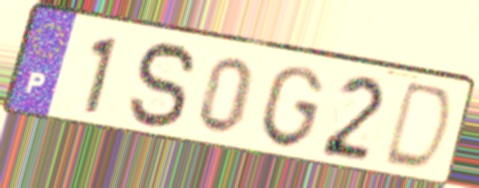0: (193, 56, 259, 138)
1: (82, 35, 125, 116)
2: (319, 73, 389, 166)
D: (378, 79, 457, 176)
G: (256, 63, 327, 152)
S: (125, 39, 200, 133)
